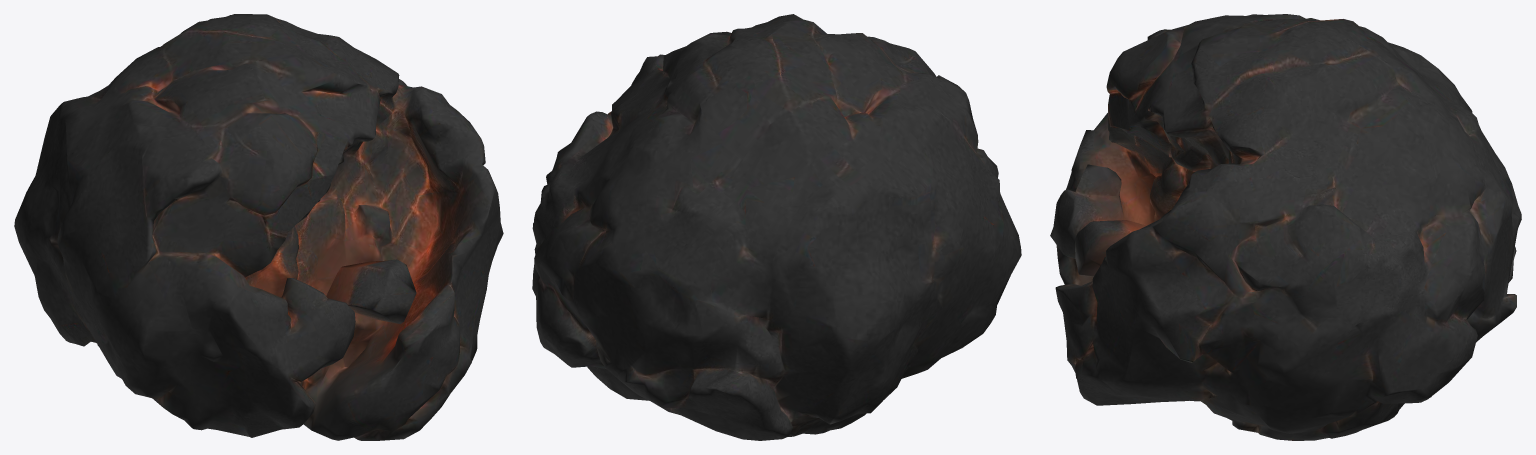
The model's file is meteor.glb.
The picture shows the model from 3 angles, left to right: view 1: azimuth 30°, elevation 25°; view 2: azimuth 150°, elevation 25°; view 3: azimuth 270°, elevation 25°; orthographic projection.
Parts seen in each view (by area): view 1: Mesh_0; view 2: Mesh_0; view 3: Mesh_0.
Boxes of the visible parts, <box> form: Mesh_0: <box>14,14,503,440</box>; Mesh_0: <box>532,14,1021,440</box>; Mesh_0: <box>1050,14,1521,440</box>.
Size of the model in its own units: 1.84 by 1.57 by 1.9.
1 material, 1 textured.
